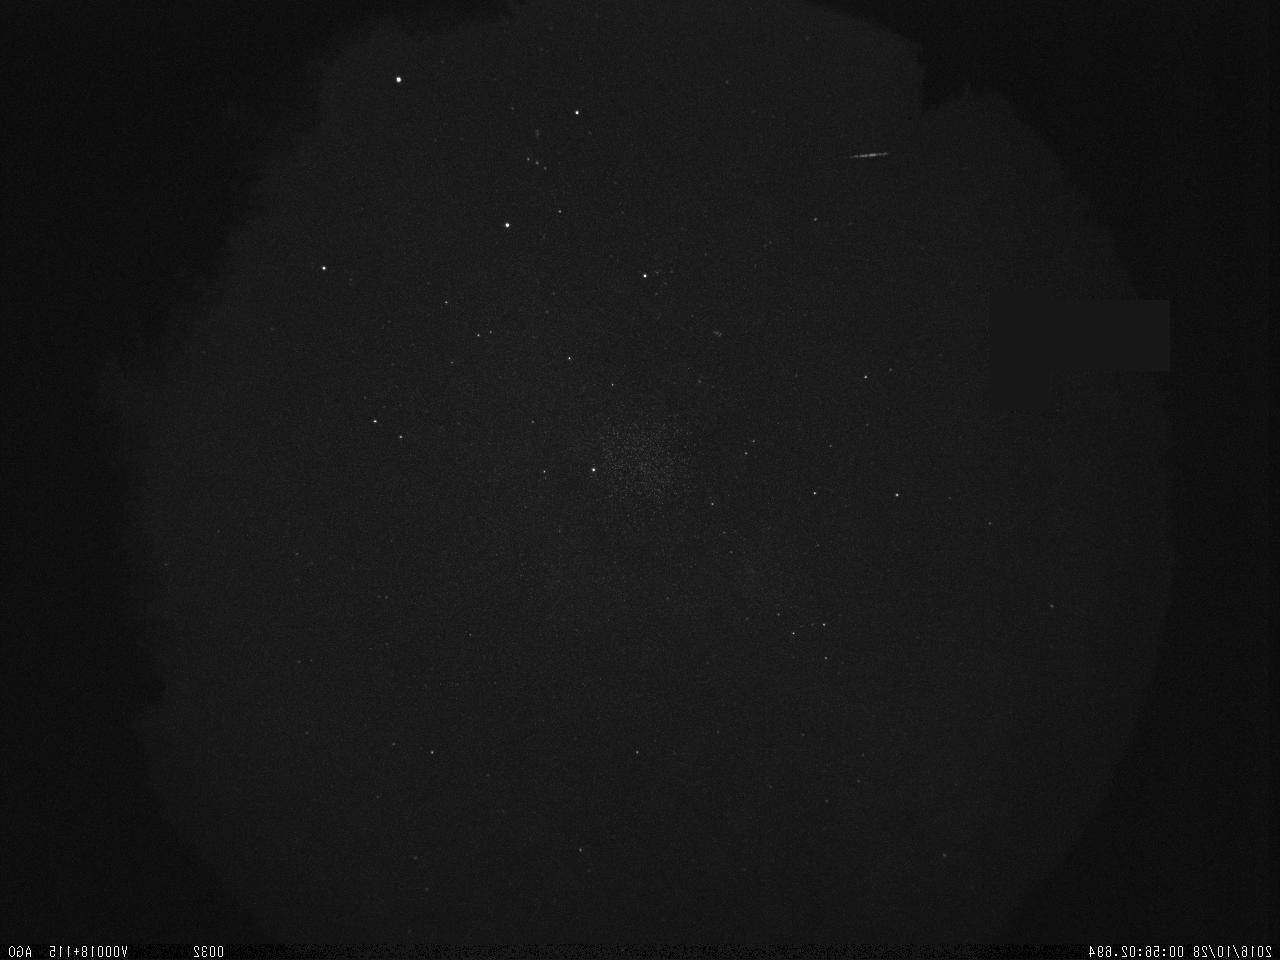meteor: (838, 141, 902, 170)
